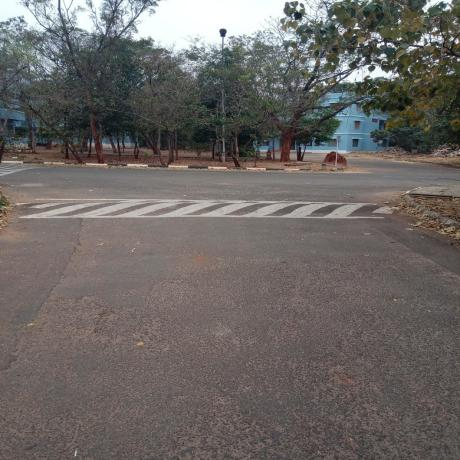Speed Bump: (10, 199, 401, 218)
